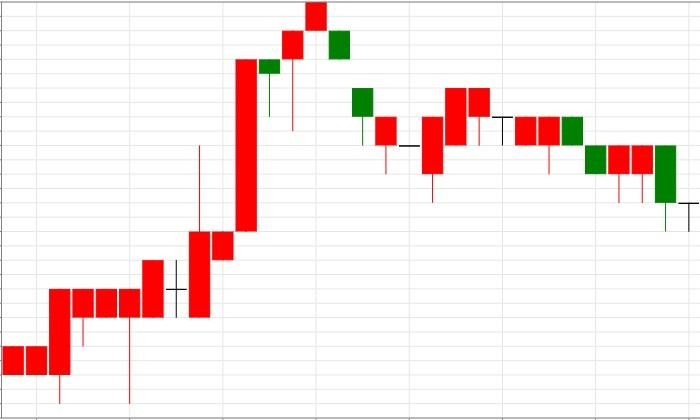hanging_man_fall: (3, 30, 304, 404)
